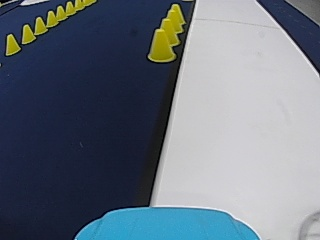cone: (146, 27, 176, 62), (165, 3, 185, 33), (157, 18, 178, 46), (4, 33, 20, 55), (21, 24, 35, 43), (33, 16, 47, 34), (46, 10, 57, 26), (55, 5, 65, 20), (65, 1, 74, 15)
